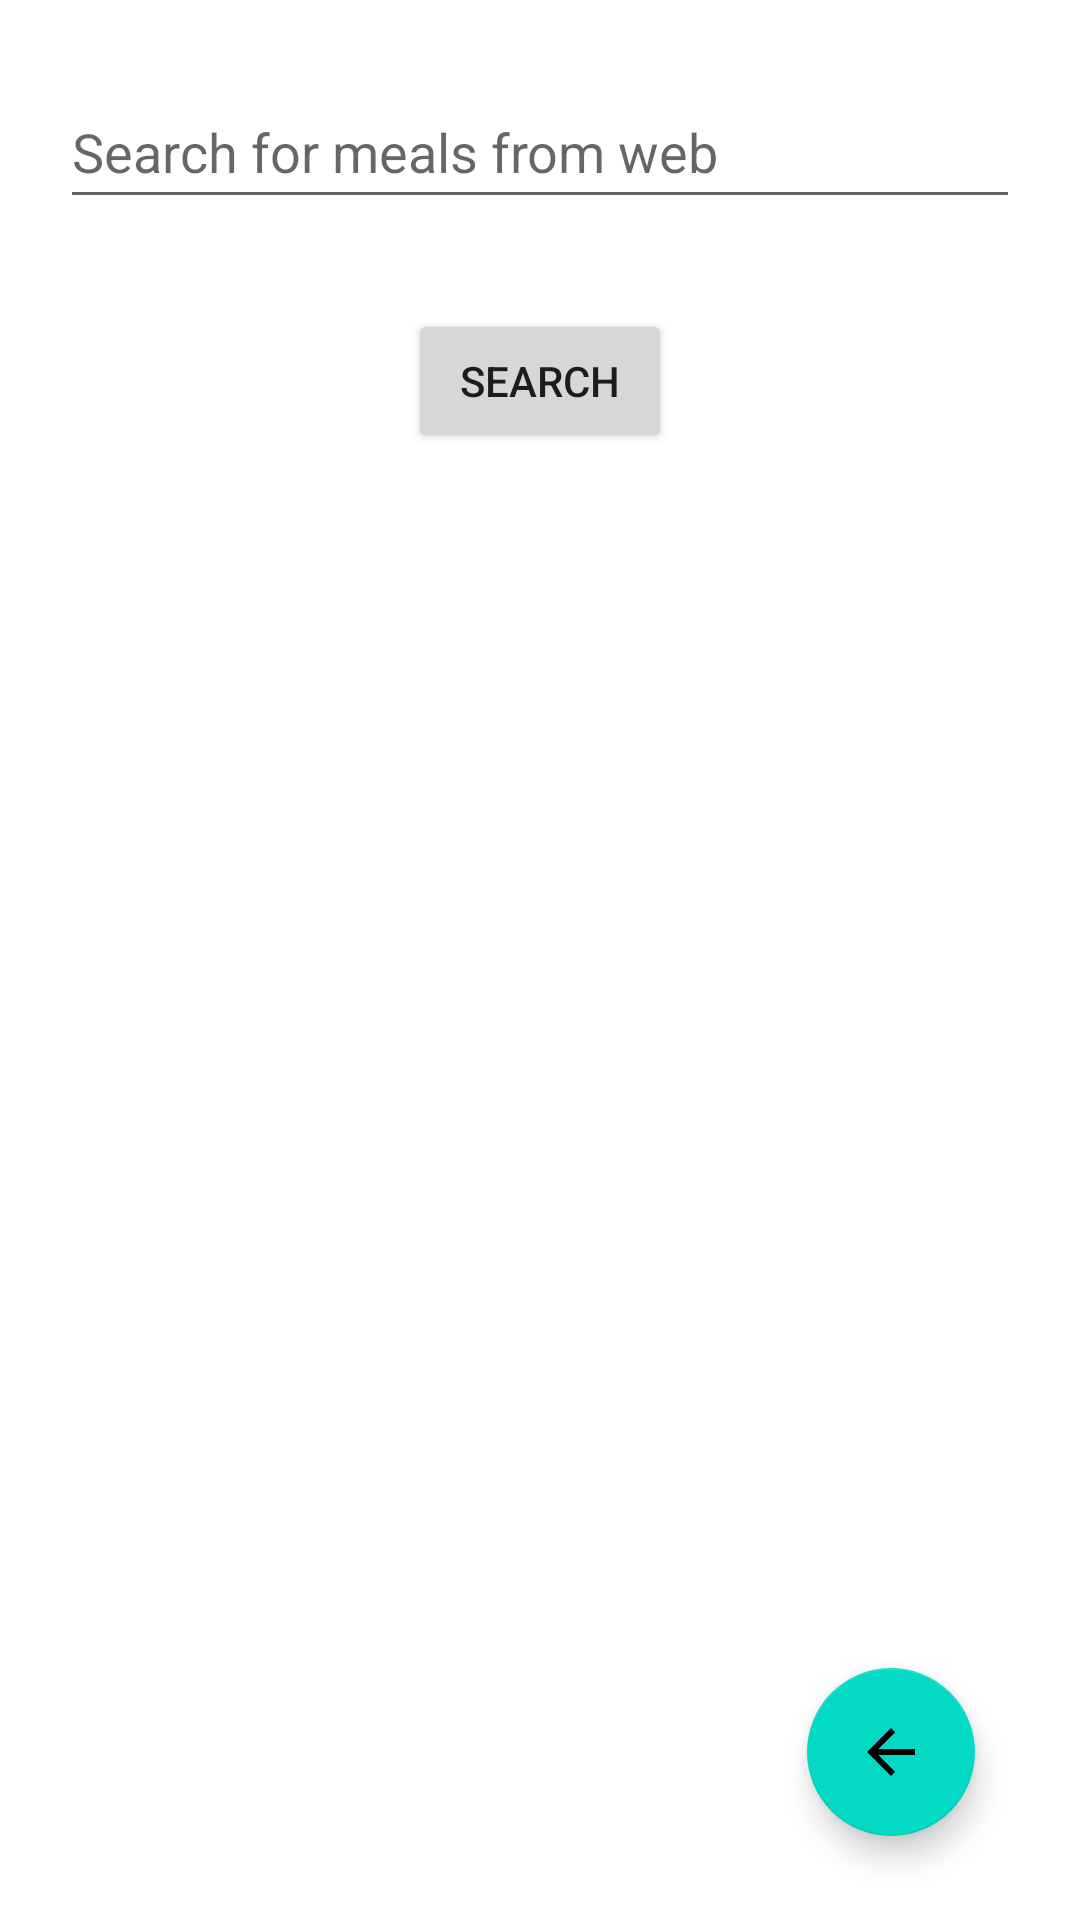

Icons on this 1080w x 1920h Android screen, each with the point to tap as (x,y):
back: (891,1752)
